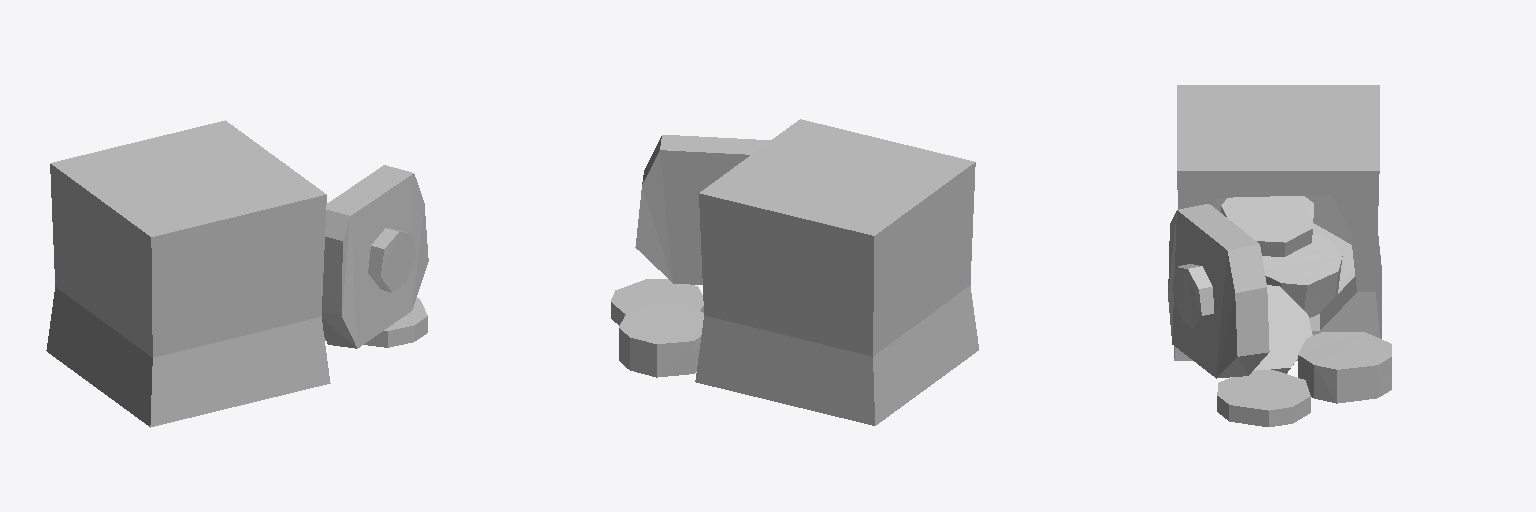
File: Safe Magma.obj
The picture shows the model from 3 angles: view 1: azimuth 30°, elevation 25°; view 2: azimuth 150°, elevation 25°; view 3: azimuth 270°, elevation 25°; orthographic projection.
Parts seen in each view (by area): view 1: SafeMagma1; view 2: SafeMagma1; view 3: SafeMagma1.
Boxes of the visible parts, x1=… form: SafeMagma1: x1=46, y1=120, x2=428, y2=427; SafeMagma1: x1=611, y1=119, x2=978, y2=425; SafeMagma1: x1=1168, y1=85, x2=1391, y2=426.
Bounding box in the file's own units: 9.48 × 5.4 × 5.8.